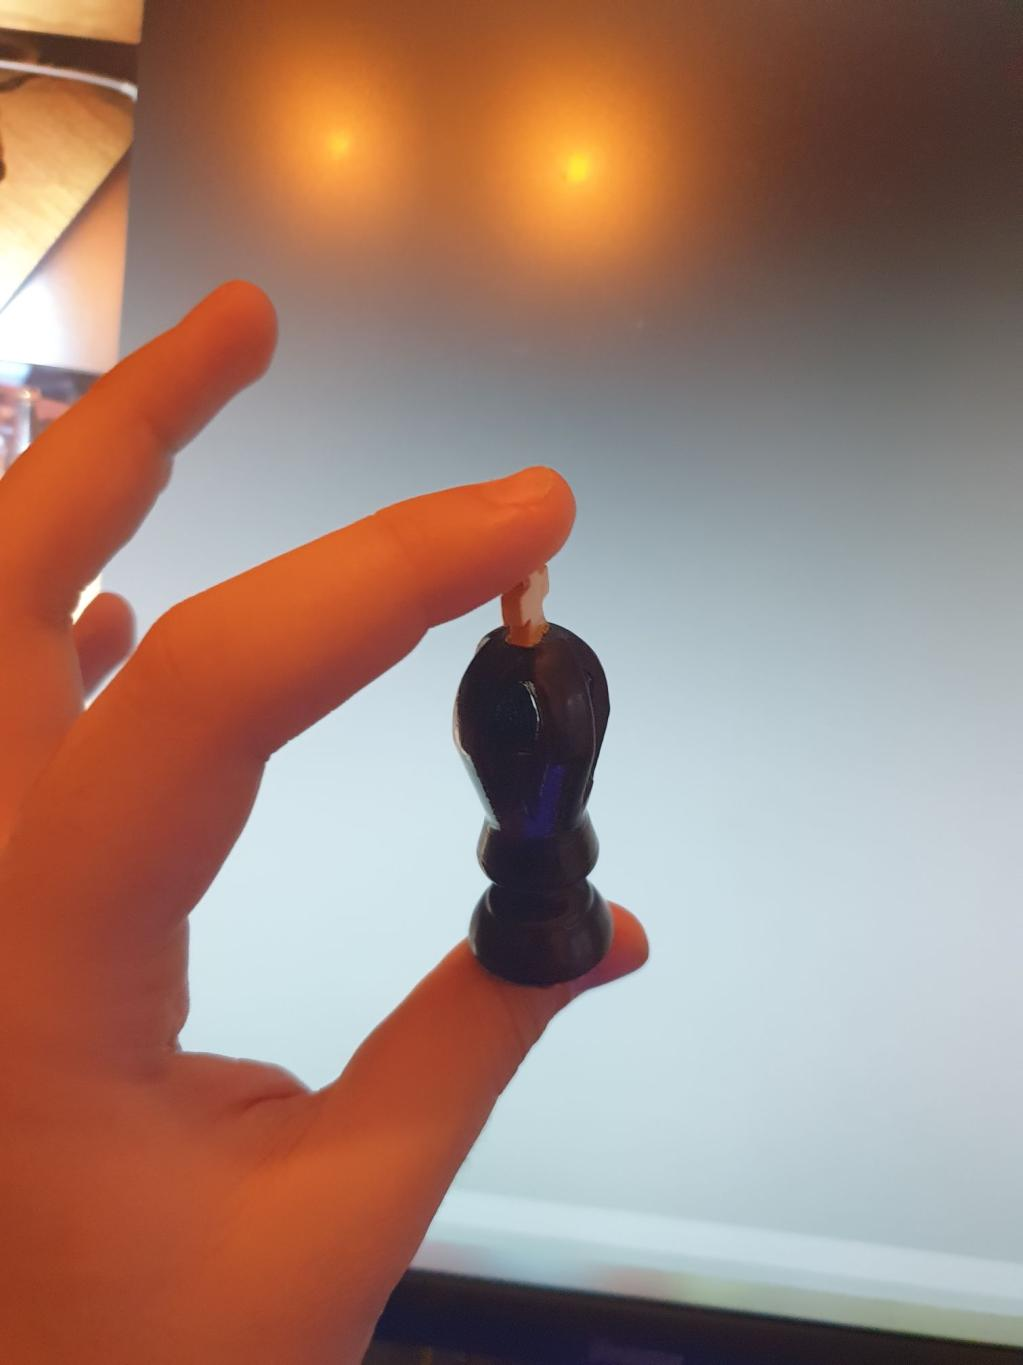bking: (452, 562, 614, 985)
